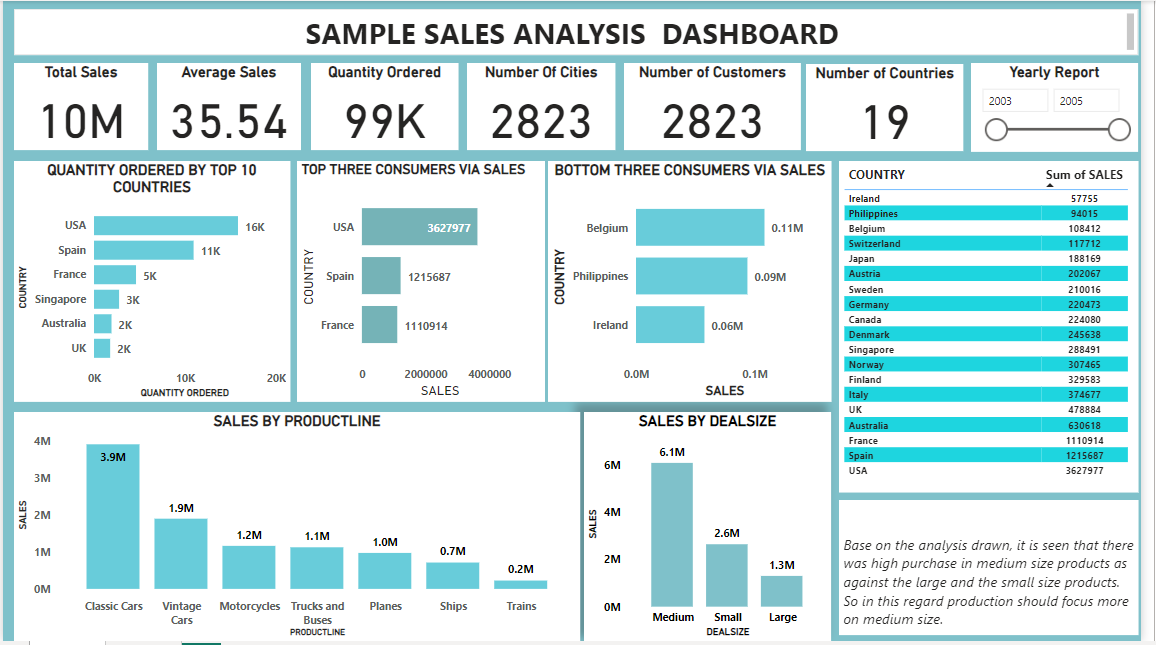

What the dashboard file says about the page in this screenshot:
{"tool":"powerbi","page":{"name":"Page 1","canvas":[1280,720],"ordinal":0},"visuals":[{"type":"columnChart","title":" SALES BY  DEALSIZE","fields":{"Category":["sales_data_sample.DEALSIZE"],"Y":["Sum(sales_data_sample.SALES)"]},"box":[654,462,278,258],"z":0},{"type":"card","title":"Number Of Cities","fields":{"Values":["sales_data_sample.Total number of cities"]},"box":[521.8,69.4,167.1,97.7],"z":1000},{"type":"card","title":"Quantity Ordered","fields":{"Values":["Sum(sales_data_sample.QUANTITYORDERED)"]},"box":[347,69.4,165.8,97.7],"z":2000},{"type":"card","title":"Average Sales","fields":{"Values":["sales_data_sample.Avg sales"]},"box":[173.5,69.4,161.9,97.7],"z":3000},{"type":"card","title":"Total Sales","fields":{"Values":["Sum(sales_data_sample.SALES)"]},"box":[12.4,69.8,150.8,97.9],"z":4000},{"type":"card","title":" Number of Customers","fields":{"Values":["sales_data_sample.Total Of Customers"]},"box":[699.1,69.4,199.2,97.7],"z":5000},{"type":"slicer","title":"Yearly Report","fields":{"Values":["sales_data_sample.YEAR_ID"]},"box":[1089,70,188,100],"z":6000},{"type":"columnChart","title":" SALES BY PRODUCTLINE","fields":{"Y":["Sum(sales_data_sample.SALES)"],"Category":["sales_data_sample.PRODUCTLINE"]},"box":[12,462,637,258],"z":7000},{"type":"textbox","box":[12,9,1265,52],"z":8000},{"type":"tableEx","fields":{"Values":["sales_data_sample.COUNTRY","Sum(sales_data_sample.SALES)"]},"box":[940,180,337,373],"z":9000},{"type":"barChart","title":"QUANTITY ORDERED BY TOP 10 COUNTRIES","fields":{"Category":["sales_data_sample.COUNTRY"],"Y":["Sum(sales_data_sample.QUANTITYORDERED)"]},"box":[12.4,180,310.5,271.1],"z":10000},{"type":"clusteredBarChart","title":"TOP THREE CONSUMERS VIA SALES","fields":{"Y":["Sum(sales_data_sample.SALES)"],"Category":["sales_data_sample.COUNTRY"]},"box":[330.3,179.9,278.9,271.2],"z":11000},{"type":"barChart","title":"BOTTOM THREE CONSUMERS VIA SALES","fields":{"Category":["sales_data_sample.COUNTRY"],"Y":["Sum(sales_data_sample.SALES)"]},"box":[613,180,319,271],"z":12000},{"type":"card","title":"Number of Countries","fields":{"Values":["sales_data_sample.#COUNTRY"]},"box":[903.5,70.7,177.3,97.7],"z":13000},{"type":"textbox","box":[940,561,337,152],"z":14000}]}

Visuals, with their boxes in screenshot pixels (x1, y1, x2, y2), scaled from the page's 1280x720 canvas onto the 1156x645 screenshot:
" SALES BY  DEALSIZE" columnChart: 591/414/842/644
"Number Of Cities" card: 471/62/622/150
"Quantity Ordered" card: 313/62/463/150
"Average Sales" card: 157/62/303/150
"Total Sales" card: 11/63/147/150
" Number of Customers" card: 631/62/811/150
"Yearly Report" slicer: 984/63/1153/152
" SALES BY PRODUCTLINE" columnChart: 11/414/586/644
textbox: 11/8/1153/55
tableEx - sales_data_sample.COUNTRY x Sum(sales_data_sample.SALES): 849/161/1153/495
"QUANTITY ORDERED BY TOP 10 COUNTRIES" barChart: 11/161/292/404
"TOP THREE CONSUMERS VIA SALES" clusteredBarChart: 298/161/550/404
"BOTTOM THREE CONSUMERS VIA SALES" barChart: 554/161/842/404
"Number of Countries" card: 816/63/976/151
textbox: 849/503/1153/639
